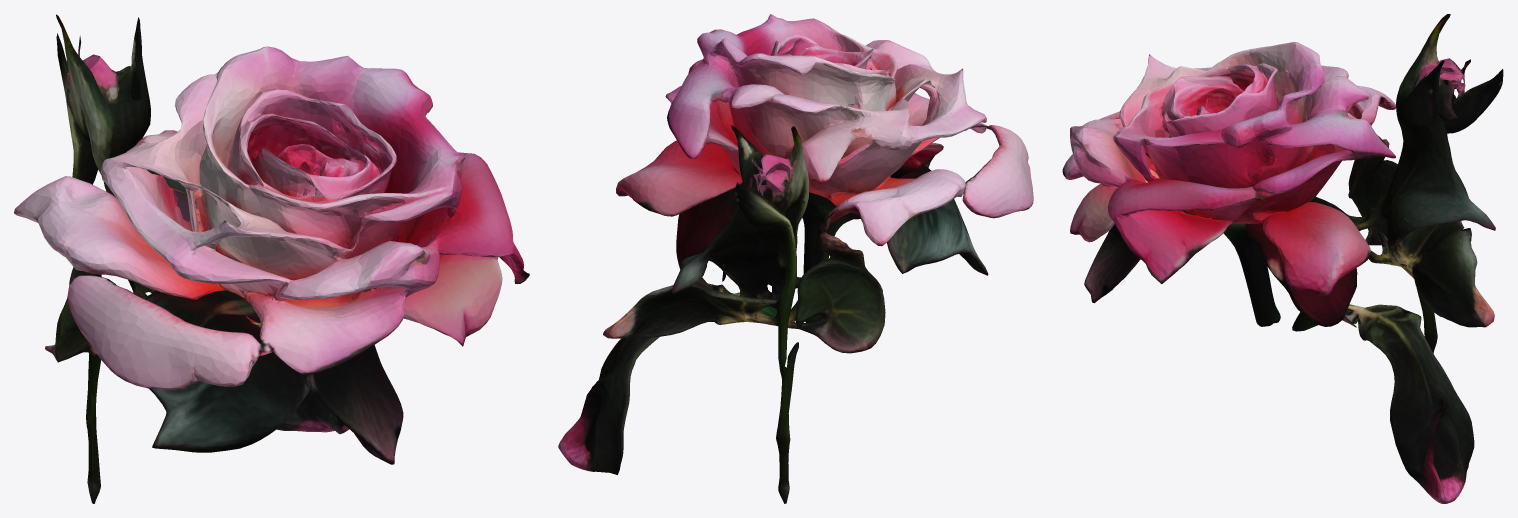
The model's file is rose.glb.
The picture shows the model from 3 angles, left to right: view 1: azimuth 30°, elevation 25°; view 2: azimuth 150°, elevation 25°; view 3: azimuth 270°, elevation 25°; orthographic projection. The views are drawn at different scales.
Parts seen in each view (by area): view 1: world; view 2: world; view 3: world.
Part boxes in pixels (x1=…): world: x1=14, y1=14, x2=529, y2=503; world: x1=558, y1=14, x2=1033, y2=503; world: x1=1062, y1=14, x2=1503, y2=503.
Size of the model in its own units: 0.8579 by 0.9561 by 0.9995.
Materials: 1 (1 with a texture image).
